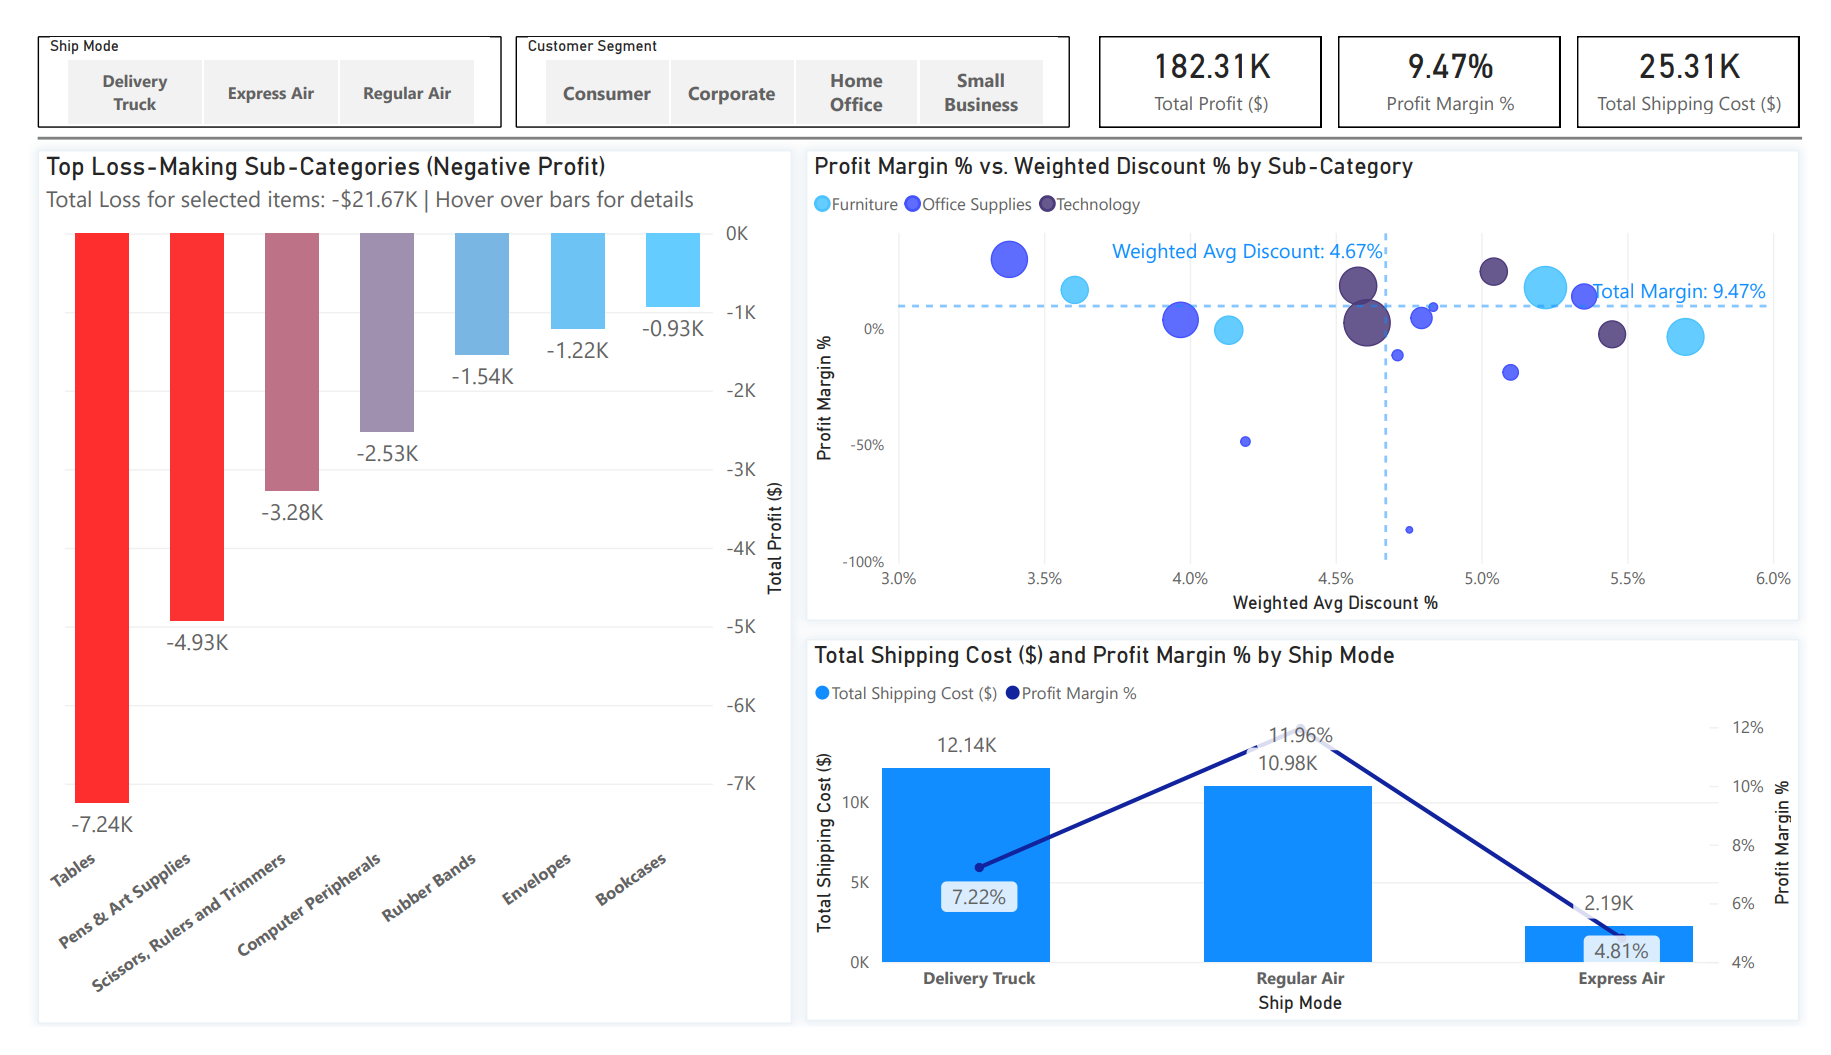

The page's visual inventory and layout, read from the dashboard file:
{"tool":"powerbi","page":{"name":"Profitability & Cost Drivers","canvas":[1280,720],"ordinal":1},"visuals":[{"type":"cardVisual","fields":{"Data":["_Measures.Total Profit","_Measures.Profit Margin %","_Measures.Total Shipping Cost"]},"box":[770,7,506,66],"z":0},{"type":"clusteredColumnChart","title":"Top Loss-Making Sub-Categories (Negative Profit)","fields":{"Category":["Dim_Product.Product Sub-Category"],"Y":["_Measures.Total Profit ($)"]},"box":[5.9,88.8,543.2,629],"z":1000},{"type":"slicer","fields":{"Values":["Dim_Customer.Customer Segment"]},"box":[350,7,399,66],"z":2000},{"type":"shape","box":[5.8,73.3,1270,15],"z":3000},{"type":"slicer","fields":{"Values":["Fact_Sales.Ship Mode"]},"box":[5.7,7.1,334.3,65.7],"z":4000},{"type":"scatterChart","title":"Profit Margin % vs. Weighted Discount % by Sub-Category","fields":{"Category":["Dim_Product.Product Sub-Category"],"Series":["Dim_Product.Product Category"],"Size":["_Measures.Total Sales ($)"],"X":["_Measures.Avg Discount"],"Y":["_Measures.Profit Margin %"]},"box":[559.5,88.8,714.9,338.9],"z":5000},{"type":"lineClusteredColumnComboChart","fields":{"Category":["Fact_Sales.Ship Mode"],"Y":["_Measures.Total Shipping Cost US"],"Y2":["_Measures.Profit Margin %"]},"box":[559.5,441.1,714.9,275],"z":6000}]}

Visuals, with their boxes in screenshot pixels (x1, y1, x2, y2), scaled from the page's 1280x720 canvas onto the 1831x1055 screenshot:
cardVisual - _Measures.Total Profit x _Measures.Profit Margin %: 1101, 10, 1825, 107
"Top Loss-Making Sub-Categories (Negative Profit)" clusteredColumnChart: 8, 130, 785, 1052
slicer - Dim_Customer.Customer Segment: 501, 10, 1071, 107
shape: 8, 107, 1825, 129
slicer - Fact_Sales.Ship Mode: 8, 10, 486, 107
"Profit Margin % vs. Weighted Discount % by Sub-Category" scatterChart: 800, 130, 1823, 627
lineClusteredColumnComboChart - Fact_Sales.Ship Mode x _Measures.Total Shipping Cost US: 800, 646, 1823, 1049
